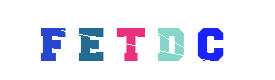C: (128, 0, 208, 80)
D: (98, 0, 178, 80)
E: (90, 0, 170, 80)
F: (50, 0, 130, 80)
T: (91, 0, 171, 80)
